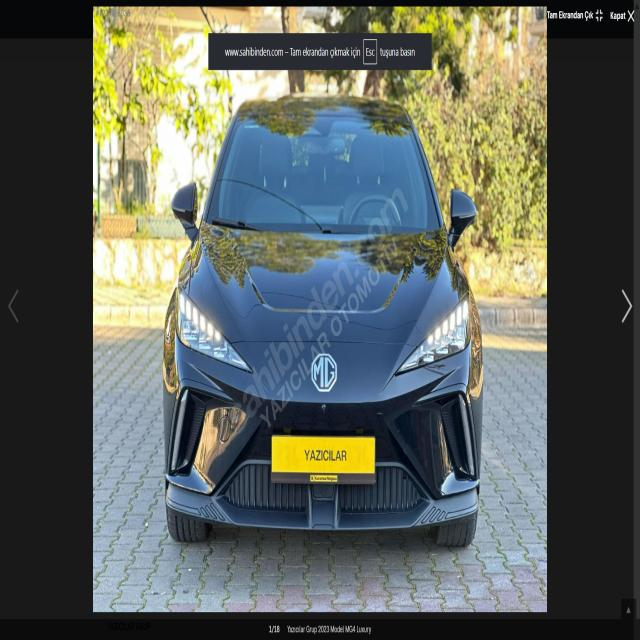mg: (300, 344, 351, 399)
